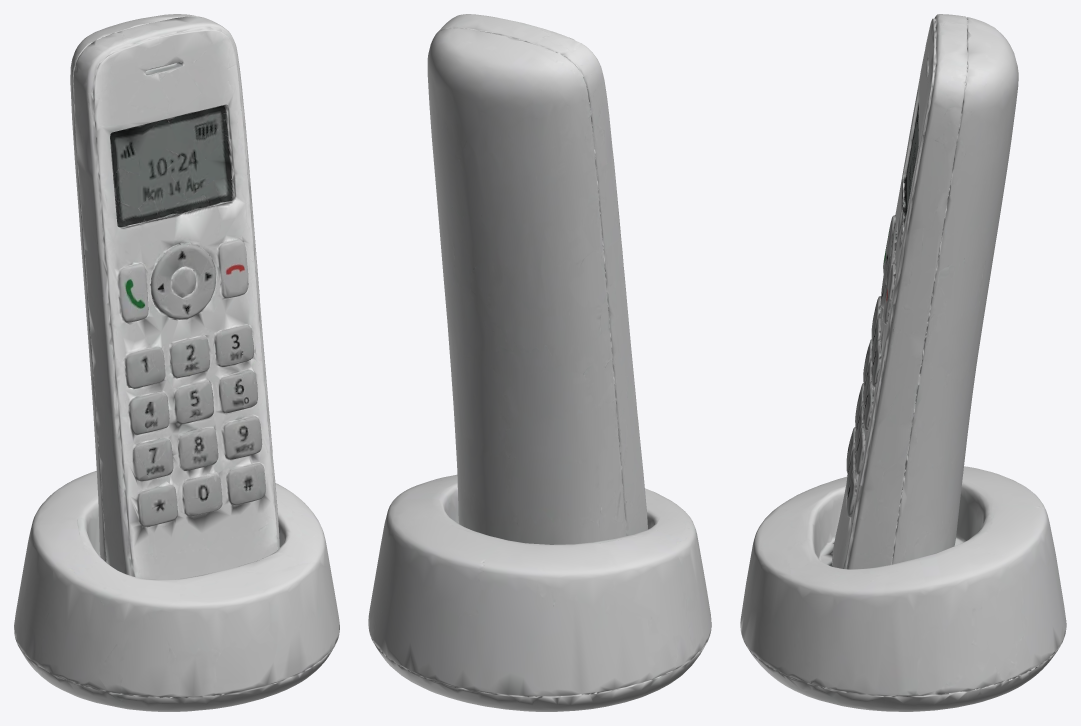
File: phone.glb
The picture shows the model from 3 angles, left to right: view 1: azimuth 30°, elevation 25°; view 2: azimuth 150°, elevation 25°; view 3: azimuth 270°, elevation 25°; orthographic projection. The views are drawn at different scales.
Bounding box in the file's own units: 0.9217 × 1.9 × 0.9107.
Materials: 1 (1 with a texture image).
